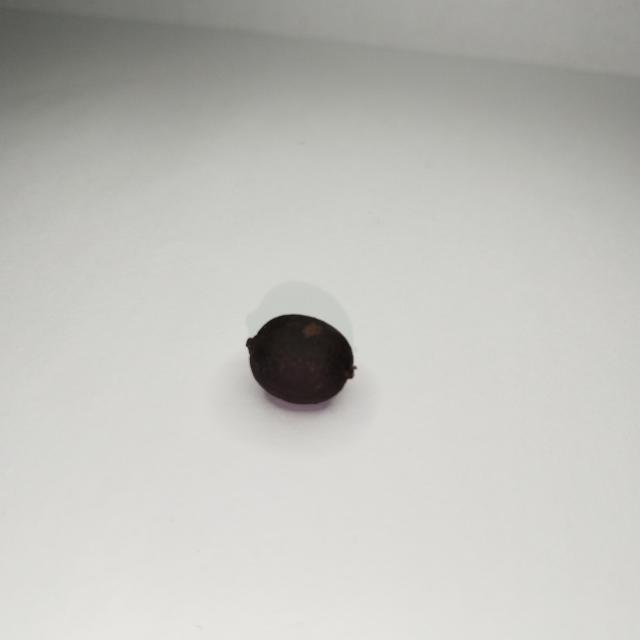Danado: (247, 316, 357, 404)
